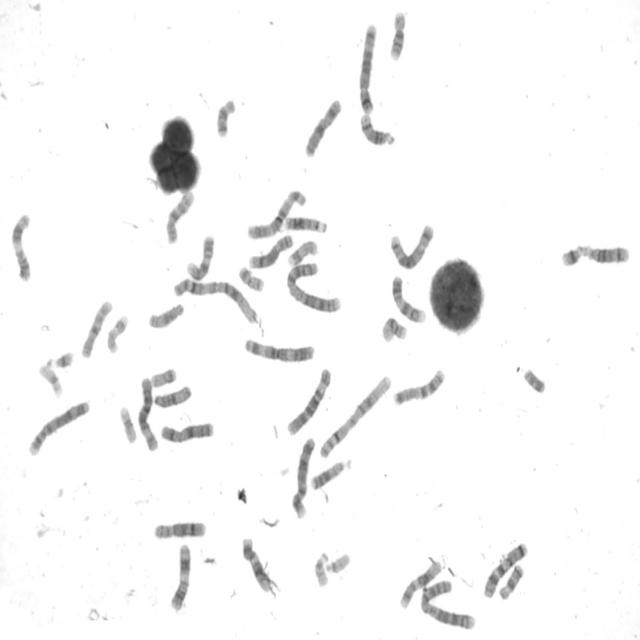A1: (317, 371, 394, 462), (171, 274, 260, 326)
A2: (284, 259, 343, 315), (418, 577, 478, 631)
A3: (245, 186, 308, 241), (242, 334, 316, 364)
B4: (26, 396, 91, 458), (289, 433, 317, 520)
B5: (388, 220, 436, 271), (356, 19, 379, 114)
C10: (79, 296, 114, 360), (163, 186, 196, 246)
C11: (9, 210, 34, 283), (168, 540, 192, 613)
C12: (398, 557, 443, 611), (239, 534, 272, 594)
C6: (284, 364, 332, 437), (136, 374, 160, 453)
C7: (481, 538, 530, 600), (391, 365, 447, 407)
C8: (246, 231, 295, 269), (151, 518, 208, 540)
C9: (390, 273, 427, 324), (184, 232, 216, 281)
D13: (308, 455, 354, 492), (282, 214, 330, 238)
D14: (357, 110, 397, 148), (582, 242, 632, 265)
D15: (146, 300, 185, 331), (152, 382, 192, 410)
E16: (387, 6, 408, 62), (379, 313, 408, 345)
E17: (285, 237, 320, 269), (105, 311, 129, 355)
E18: (496, 561, 526, 601), (214, 96, 238, 138)
F19: (36, 360, 64, 400), (117, 402, 138, 445)
F20: (236, 263, 266, 293), (148, 365, 178, 389)
G21: (559, 242, 585, 269), (46, 347, 75, 370)
G22: (312, 548, 331, 589), (324, 549, 352, 575)
X: (302, 95, 343, 159), (158, 418, 215, 445)
Y: (522, 365, 547, 395)
